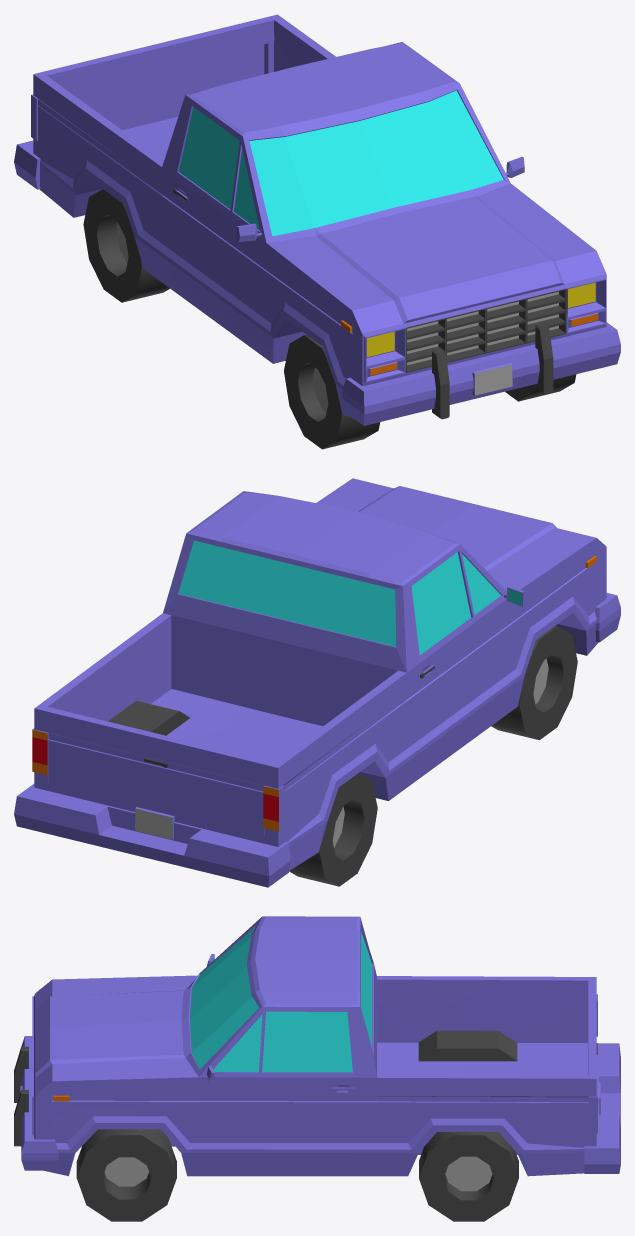
Rendered from Pickup.fbx.
3 views of the same model, one above another, from view 1: azimuth 30°, elevation 25°; view 2: azimuth 150°, elevation 25°; view 3: azimuth 270°, elevation 25° (orthographic). The views are drawn at different scales.
Parts seen in each view (by area): view 1: hood; view 2: hood; view 3: hood.
Part boxes in pixels (<box>): hood: <box>14,14,620,449</box>; hood: <box>14,478,620,887</box>; hood: <box>14,916,620,1221</box>.
Size of the model in its own units: 225 by 188 by 485.
